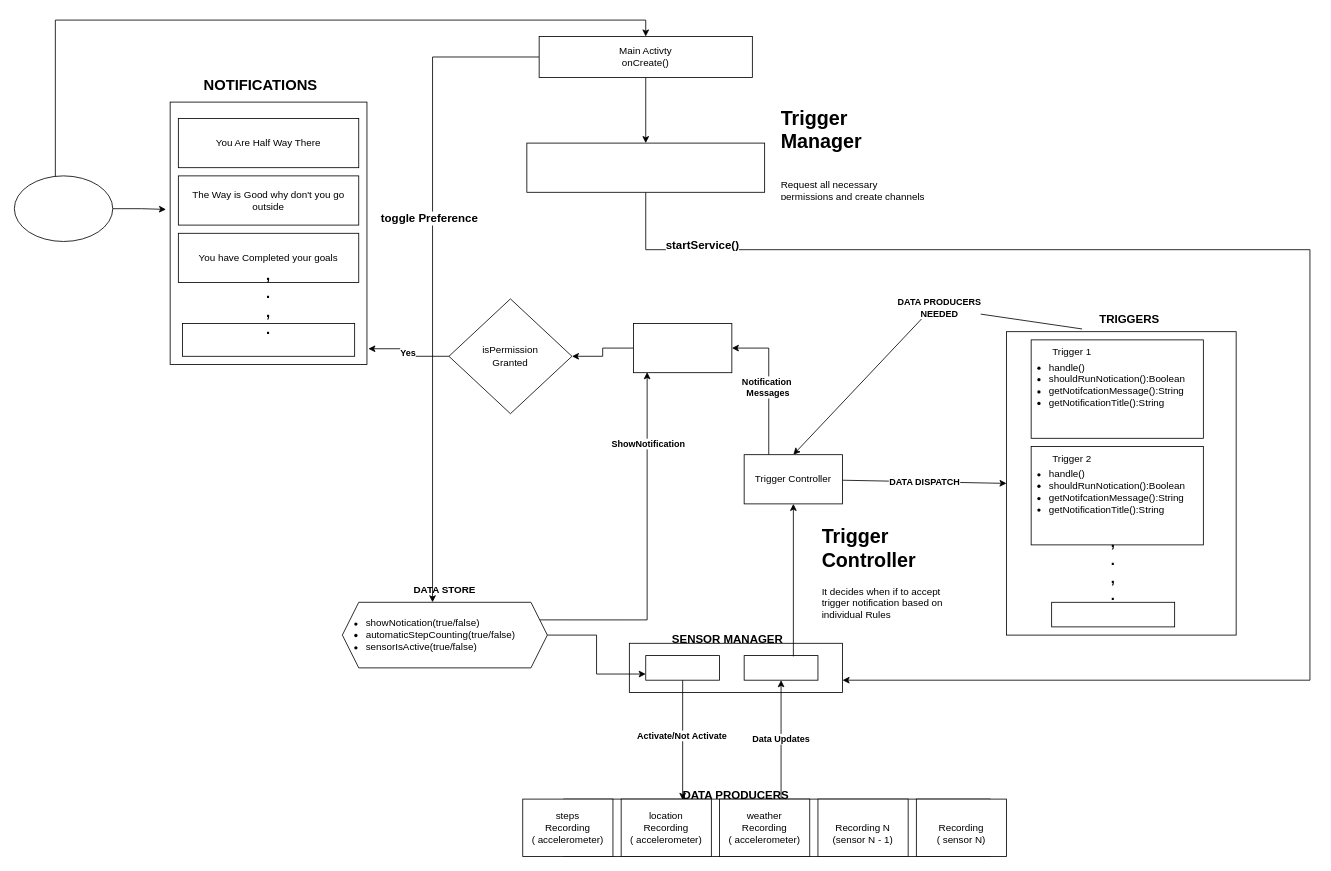
This 1331x871 diagram has some shape labels left out. The shapes that lost their labels are listed below. From the top down, each one's box as (x1, y1, x2, y2) in pixels, then its label:
(526, 142, 765, 192): Trigger Manager Service
(14, 175, 113, 241): onClick()
(182, 323, 355, 356): Notification N
(633, 323, 732, 373): Notification Manager
(1051, 601, 1175, 627): TRIGGER N
(645, 655, 720, 680): Sensor Controller
(743, 655, 818, 680): Sensor Updates Handler
